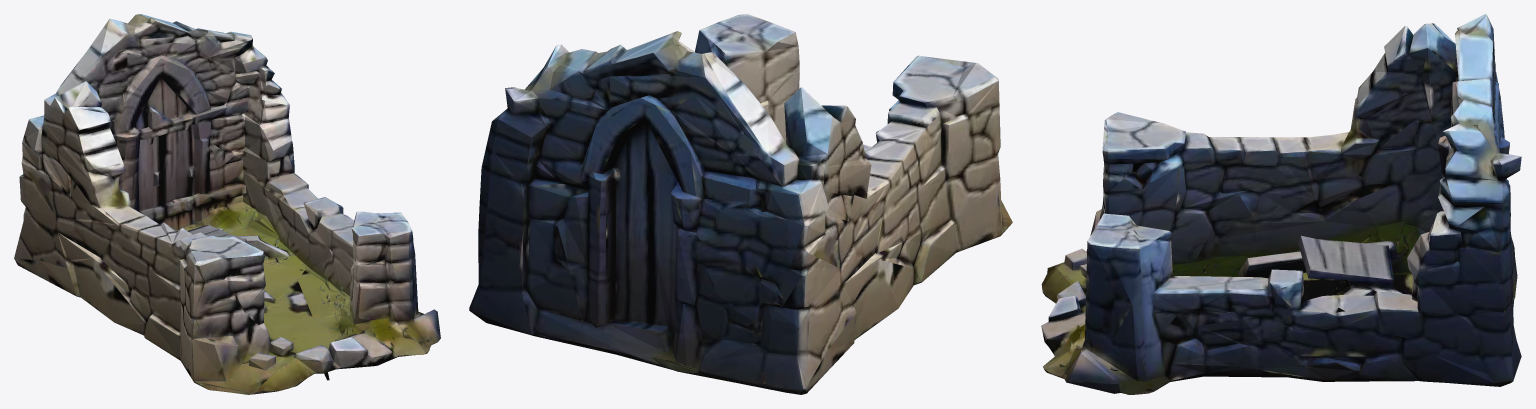
Rendered from war_castle_wall_breach_01.glb.
3 renders of one model, left to right at view 1: azimuth 30°, elevation 25°; view 2: azimuth 150°, elevation 25°; view 3: azimuth 270°, elevation 25°, orthographic. The views are drawn at different scales.
Visible parts, largest first — view 1: geometry_0; view 2: geometry_0; view 3: geometry_0.
Part boxes in pixels (box(x1,y1,x2,y2)): geometry_0: box(14, 14, 440, 394); geometry_0: box(469, 14, 1012, 394); geometry_0: box(1041, 14, 1521, 394).
Size of the model in its own units: 0.7518 by 0.6814 by 0.9965.
Materials: 1 (1 with a texture image).
